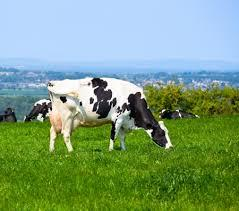cow: (46, 76, 174, 152), (22, 98, 53, 123), (159, 107, 200, 119), (0, 106, 17, 123)
